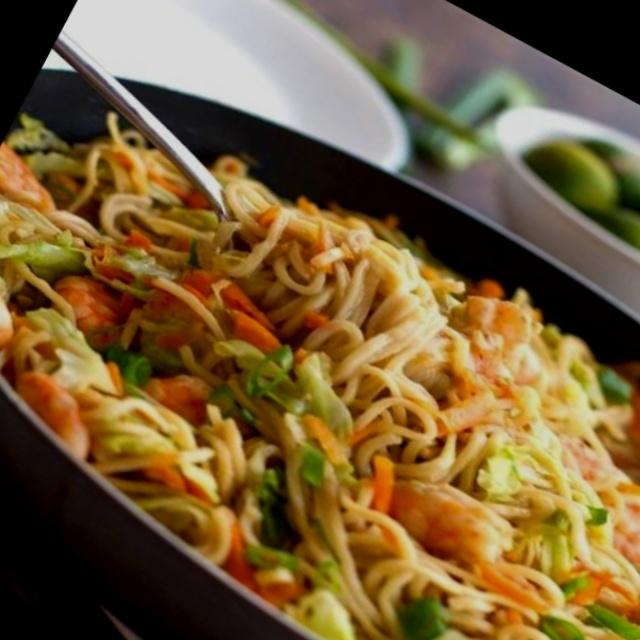pancit bihon: (0, 133, 639, 639)
